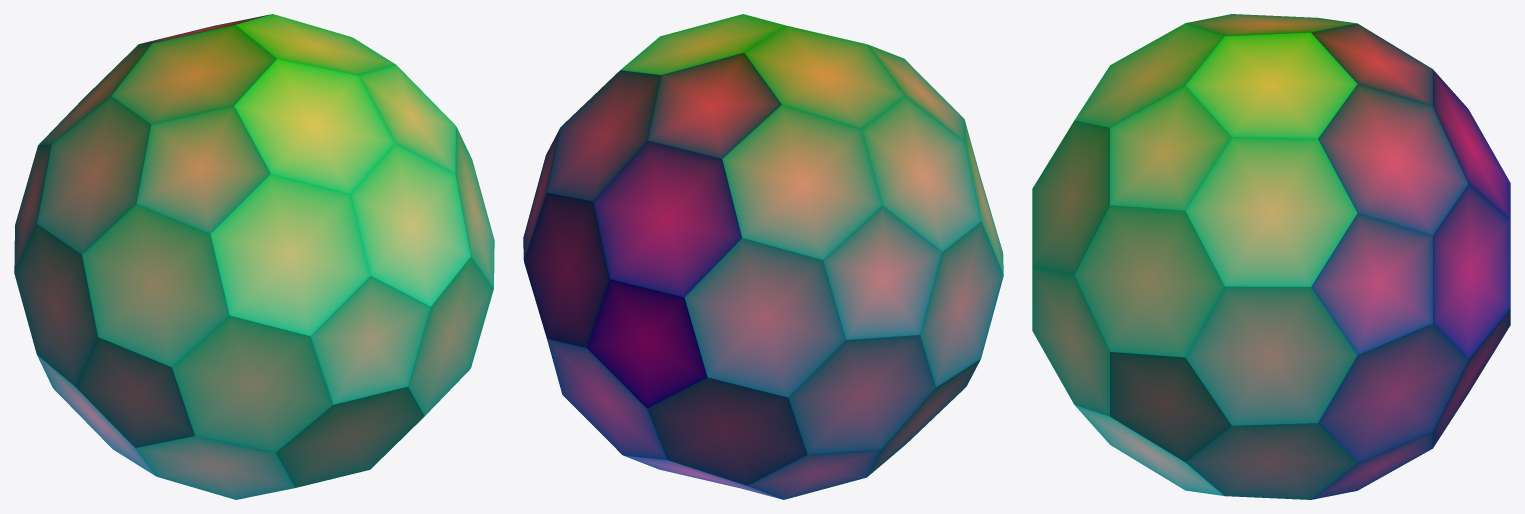
The model's file is ms_barrior01.fbx.
3 renders of one model, left to right at view 1: azimuth 30°, elevation 25°; view 2: azimuth 150°, elevation 25°; view 3: azimuth 270°, elevation 25°, orthographic. The views are drawn at different scales.
Visible parts, largest first — view 1: Mesh_0; view 2: Mesh_0; view 3: Mesh_0.
Part boxes in pixels (x1=…): Mesh_0: x1=14, y1=14, x2=494, y2=499; Mesh_0: x1=523, y1=14, x2=1003, y2=499; Mesh_0: x1=1032, y1=14, x2=1510, y2=499.
Size of the model in its own units: 0.8866 by 0.9322 by 0.9004.
